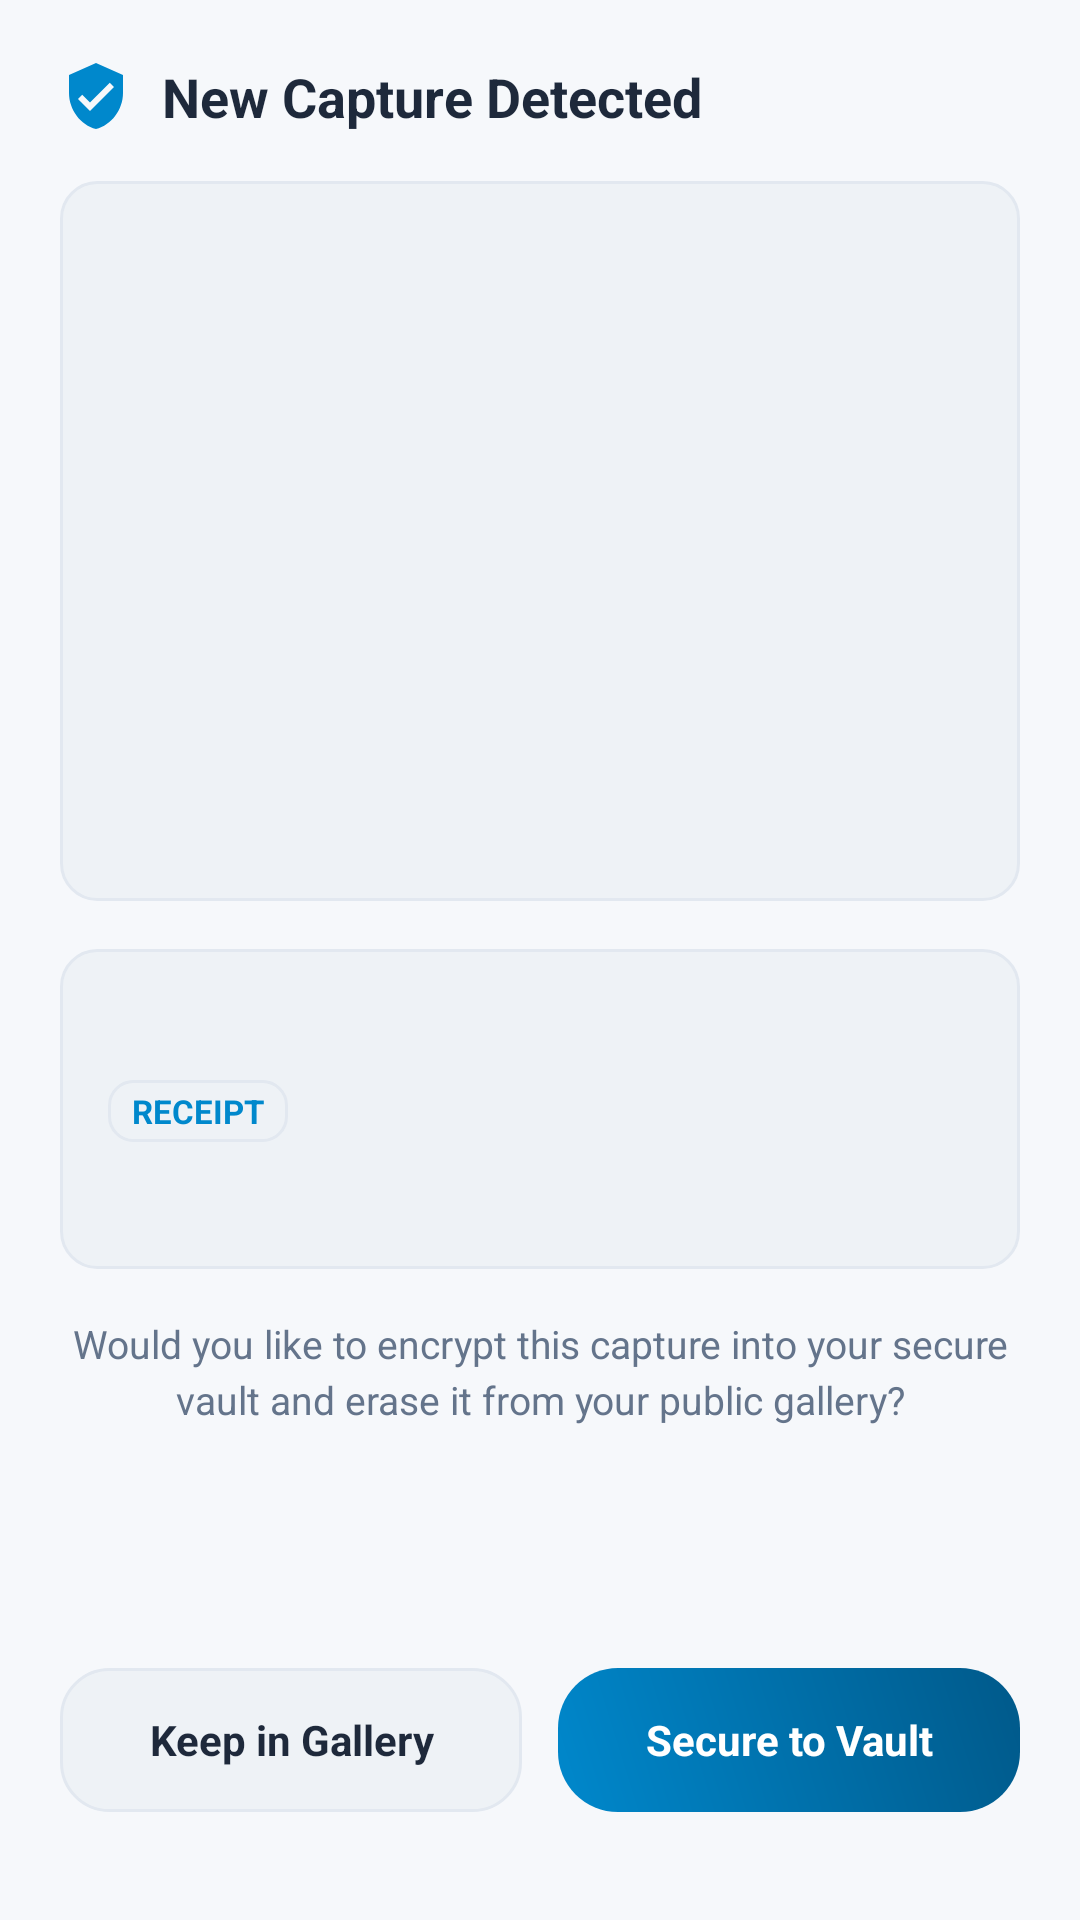

Where icons sit on this 1080px×1920px app screen, as (x1, y1, x2, y2):
Security Shield: (69, 63, 123, 129)
